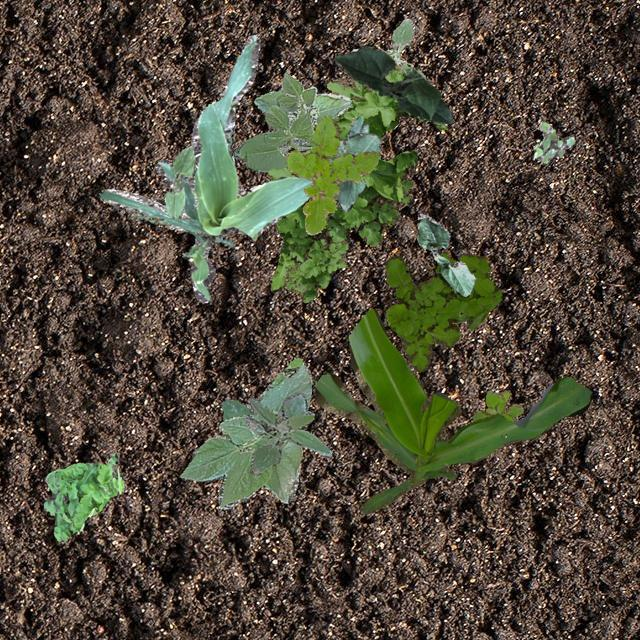crop: (99, 35, 368, 302), (314, 306, 592, 512), (178, 356, 310, 508), (232, 74, 348, 170), (333, 44, 452, 122), (416, 212, 474, 296), (326, 132, 380, 210), (163, 144, 194, 218)
weed: (266, 61, 444, 292), (384, 250, 500, 372), (286, 114, 378, 234), (245, 392, 332, 474), (43, 452, 124, 540), (190, 398, 266, 457), (284, 238, 348, 302), (382, 18, 424, 78), (532, 120, 574, 162), (472, 390, 522, 420)
